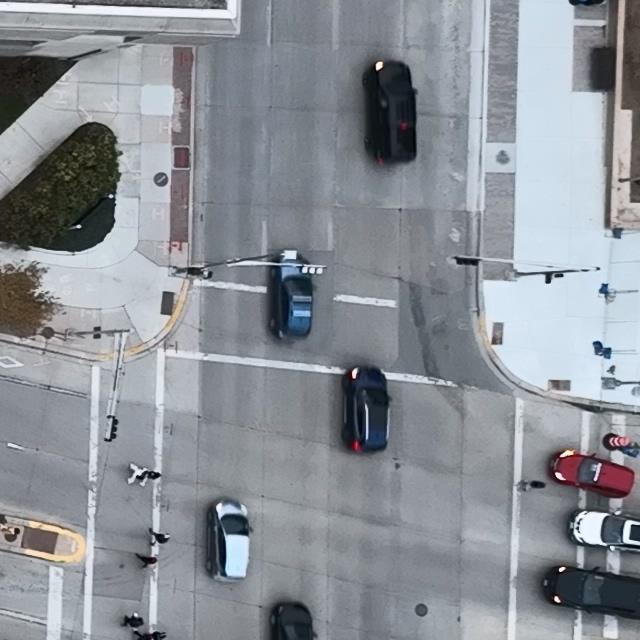car: (363, 60, 418, 165), (542, 565, 640, 620), (342, 365, 392, 455), (550, 450, 635, 498), (205, 499, 254, 582), (270, 253, 314, 339), (567, 508, 640, 554), (270, 603, 318, 640)
